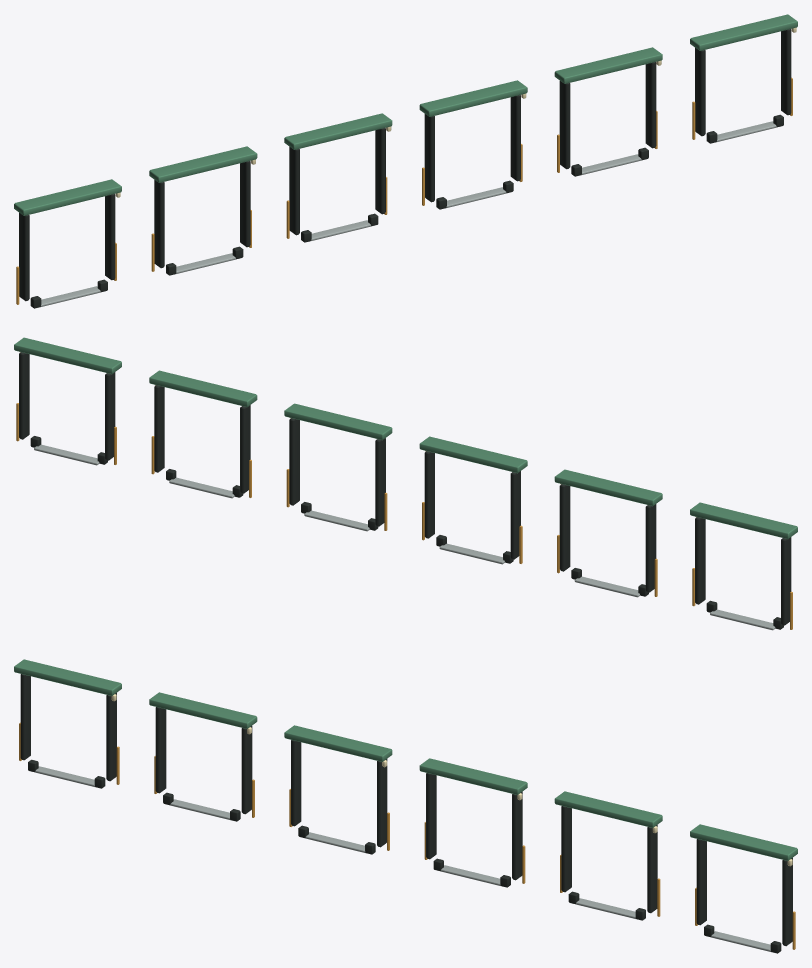
Rendered from acabado-muelles.glb.
The picture shows the model from 3 angles, top to bottom: view 1: azimuth 30°, elevation 25°; view 2: azimuth 150°, elevation 25°; view 3: azimuth 330°, elevation 25°; orthographic projection.
Visible parts, largest first — view 1: Caucho, Verde lacado, Aluminio satinado, Protección amarilla; view 2: Caucho, Verde lacado, Aluminio satinado, Protección amarilla; view 3: Caucho, Verde lacado, Aluminio satinado, Protección amarilla.
Boxes of the visible parts, x1,y1,x2,y2 form: Caucho: (19, 29, 791, 308); Verde lacado: (14, 14, 797, 215); Aluminio satinado: (40, 121, 777, 307); Protección amarilla: (16, 77, 792, 304); Caucho: (19, 352, 791, 629); Verde lacado: (14, 337, 797, 538); Aluminio satinado: (34, 444, 775, 630); Protección amarilla: (16, 403, 792, 629); Caucho: (20, 674, 792, 953); Verde lacado: (14, 659, 797, 860); Aluminio satinado: (34, 766, 772, 952); Protección amarilla: (19, 722, 795, 949).
Bounding box in the file's own units: 29.27 × 3.74 × 0.66.
